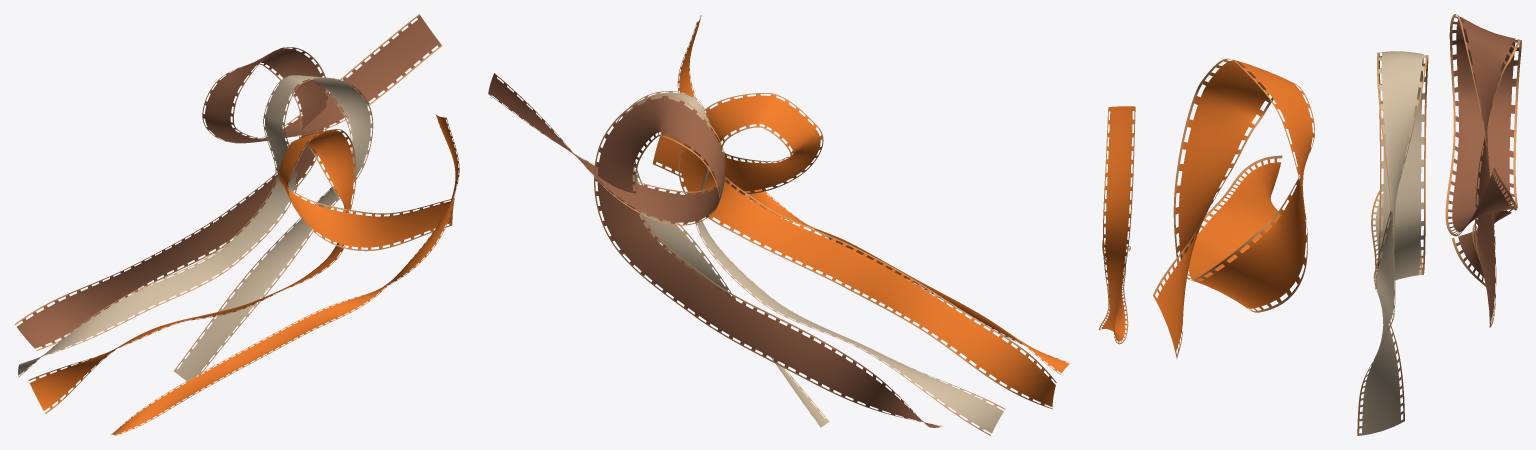
Rendered from kinetic-light.glb.
3 views of the same model, side by side, from view 1: azimuth 30°, elevation 25°; view 2: azimuth 150°, elevation 25°; view 3: azimuth 270°, elevation 25° (orthographic). The views are drawn at different scales.
Visible parts, largest first — view 1: 03-bronze-memory, 02-pearl-splice, 01-orange-cut, 04-orange-foreground; view 2: 03-bronze-memory, 01-orange-cut, 02-pearl-splice, 04-orange-foreground; view 3: 01-orange-cut, 02-pearl-splice, 03-bronze-memory, 04-orange-foreground.
Part boxes in pixels (x1,y1,x2,y2): 03-bronze-memory: [14, 14, 441, 350]; 02-pearl-splice: [18, 75, 373, 381]; 01-orange-cut: [28, 129, 454, 413]; 04-orange-foreground: [111, 114, 459, 435]; 03-bronze-memory: [488, 73, 942, 427]; 01-orange-cut: [652, 93, 1056, 409]; 02-pearl-splice: [616, 91, 1005, 435]; 04-orange-foreground: [677, 15, 1070, 374]; 01-orange-cut: [1153, 58, 1314, 358]; 02-pearl-splice: [1357, 51, 1428, 435]; 03-bronze-memory: [1445, 14, 1521, 327]; 04-orange-foreground: [1099, 106, 1135, 344].
Bounding box in the file's own units: 28.76 × 17.04 × 12.61.
